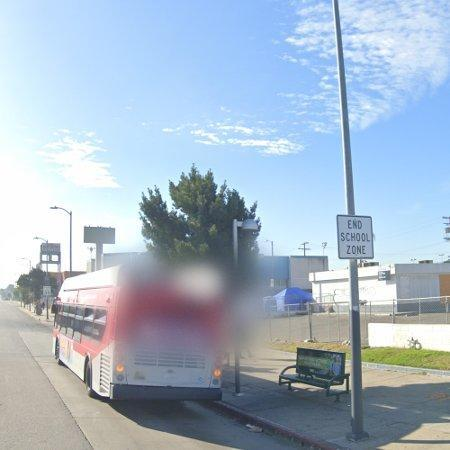buses: (53, 265, 229, 401)
